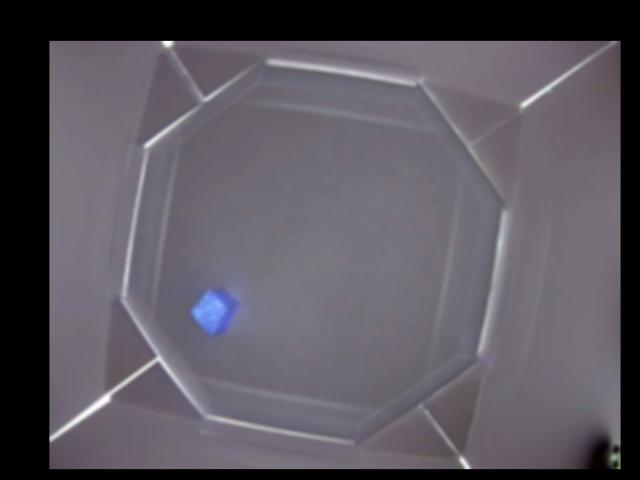Potato: (193, 287, 240, 333)
